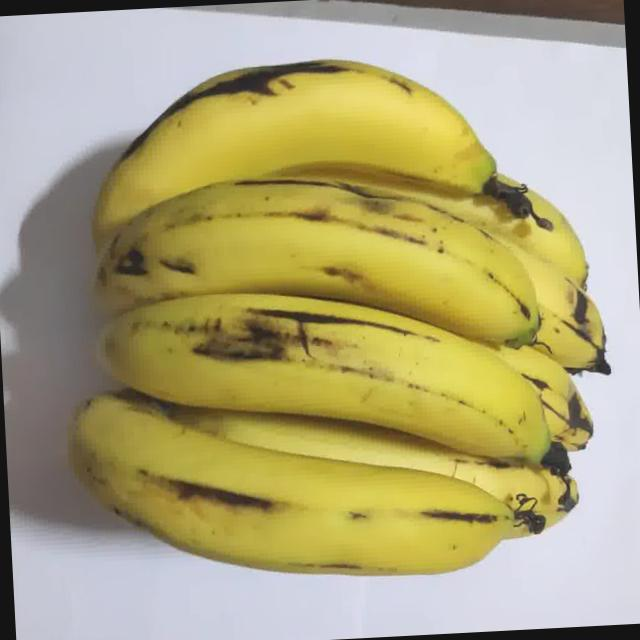banana_pacche: (57, 43, 638, 608)
